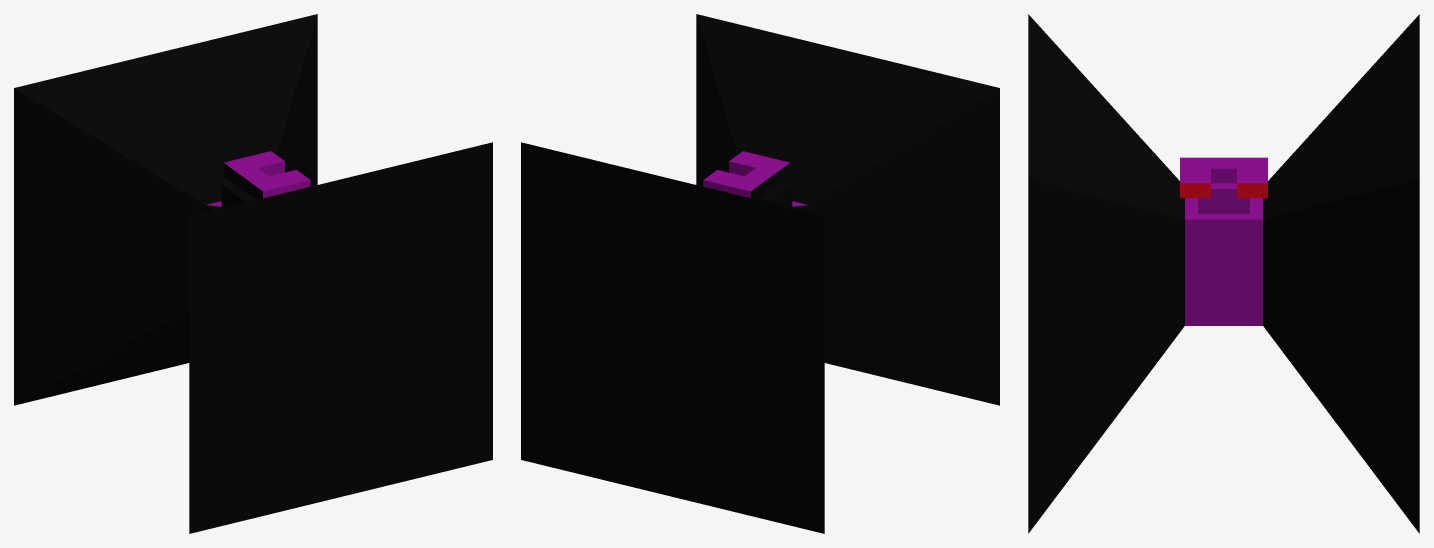
The model's file is Enemy_1.fbx.
3 views of the same model, side by side, from view 1: azimuth 30°, elevation 25°; view 2: azimuth 150°, elevation 25°; view 3: azimuth 270°, elevation 25° (orthographic). The views are drawn at different scales.
Parts seen in each view (by area): view 1: Cube; view 2: Cube; view 3: Cube.
Part boxes in pixels (left/top/right/bottom): Cube: left=14, top=14, right=492, bottom=533; Cube: left=521, top=14, right=999, bottom=533; Cube: left=1028, top=14, right=1419, bottom=533.
Size of the model in its own units: 10 by 10 by 10.
